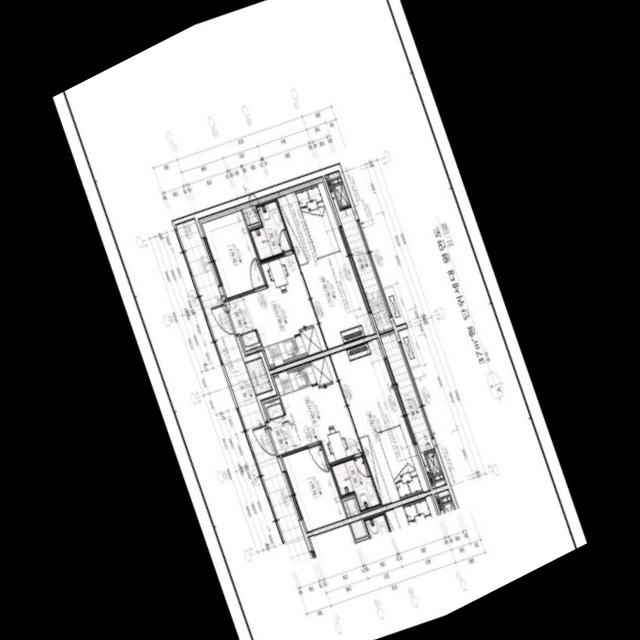background: (53, 0, 587, 640)
space_balconi: (325, 171, 393, 333), (380, 331, 446, 488)
space_bedroom: (275, 177, 376, 348), (331, 337, 430, 505), (199, 205, 266, 297), (281, 443, 347, 532)
space_elevator_hall: (176, 218, 312, 565)
space_front: (225, 296, 262, 354), (261, 395, 296, 456)
space_kitchen: (271, 355, 362, 462), (244, 252, 326, 369)
space_other: (245, 357, 272, 394), (241, 201, 259, 225), (343, 497, 360, 517), (351, 519, 367, 539)
space_toilet: (332, 456, 380, 510), (251, 201, 292, 259)
